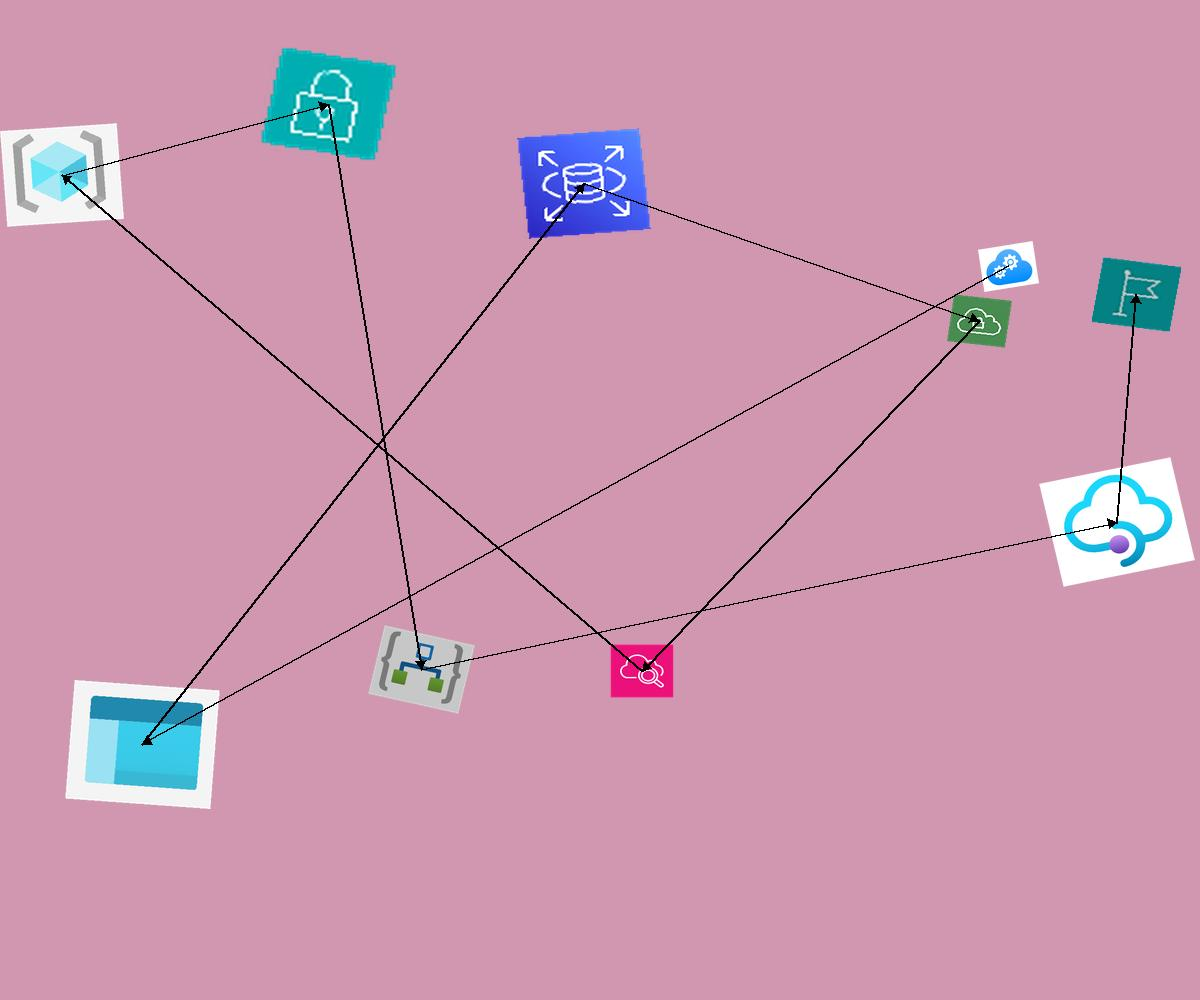AWS-CloudWatch: (610, 644, 674, 698)
AWS-Private-subnet: (259, 46, 398, 162)
AWS-Private_vpc: (947, 294, 1012, 348)
AWS-RDS: (517, 128, 651, 239)
AWS-Region: (1091, 257, 1182, 332)
Azure_api_gateway: (1039, 457, 1195, 587)
Azure_cloud_services: (978, 241, 1039, 292)
Azure_integration-204-Logic-Apps: (368, 625, 475, 714)
Azure_management-portal: (65, 680, 220, 809)
Azure_resource_group: (0, 123, 124, 227)
